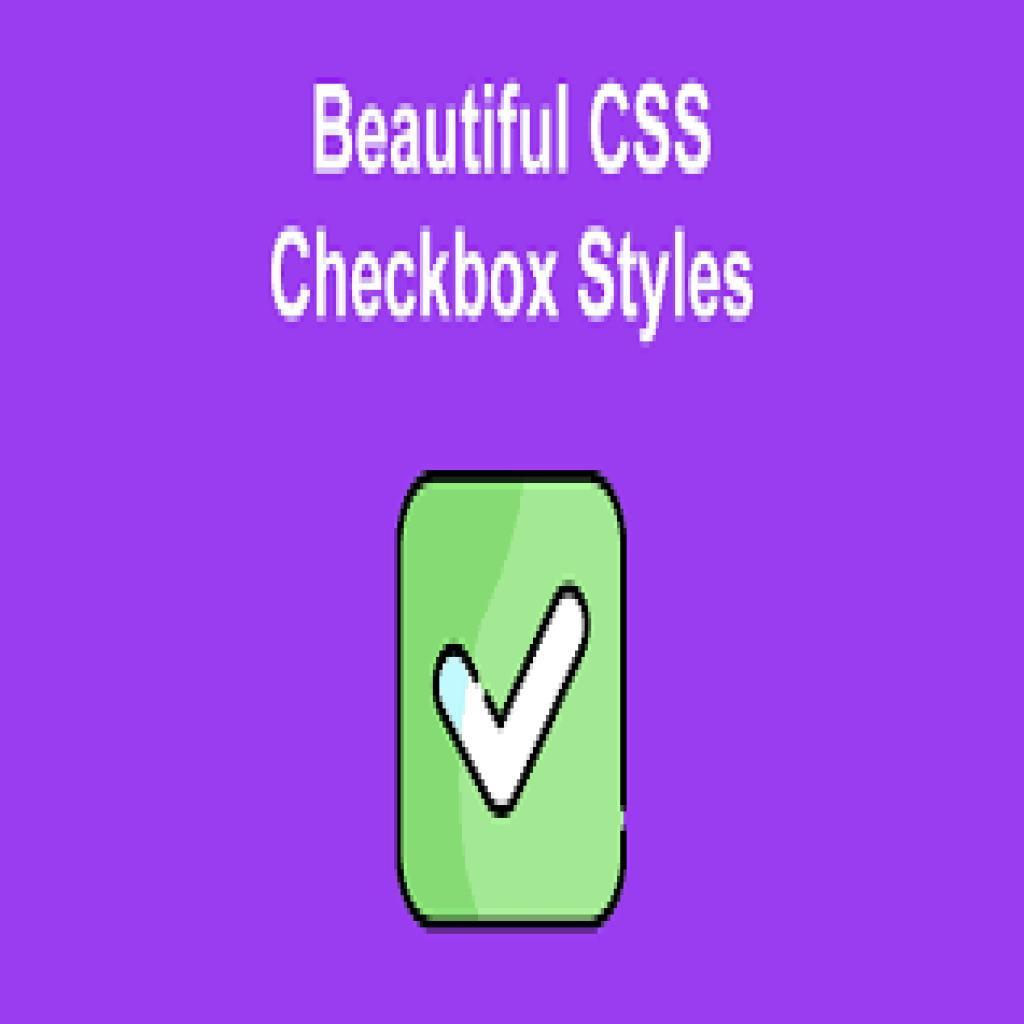checkbox: (395, 469, 627, 935)
